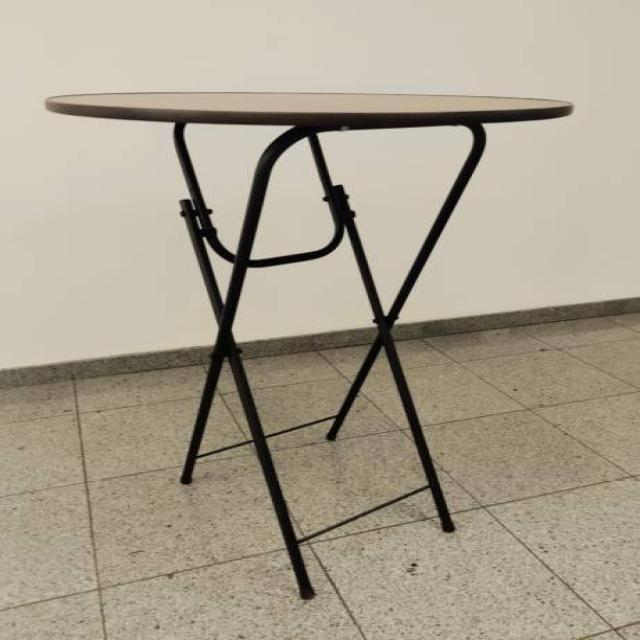table: (43, 90, 575, 600)
